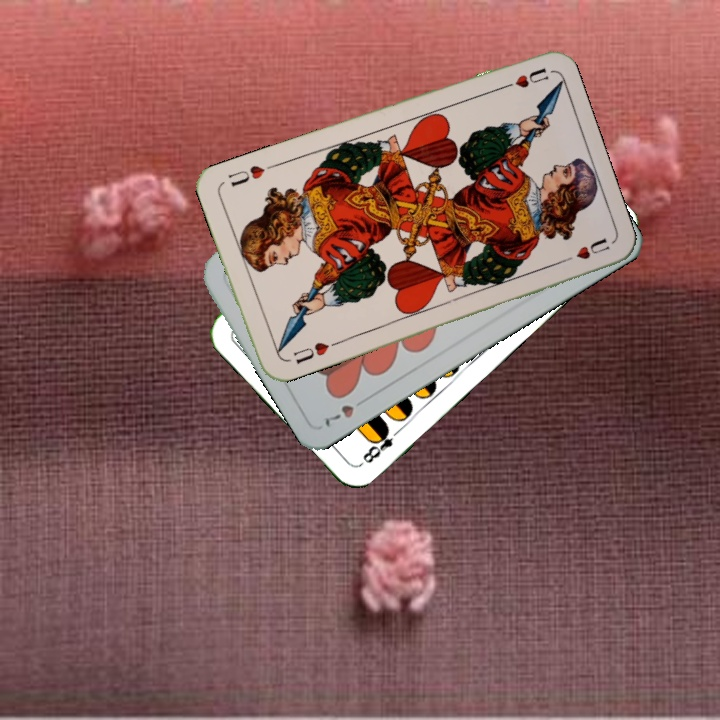E8: (356, 422, 404, 468)
H7: (320, 393, 372, 430)
HU: (494, 63, 552, 93), (289, 338, 339, 367)
